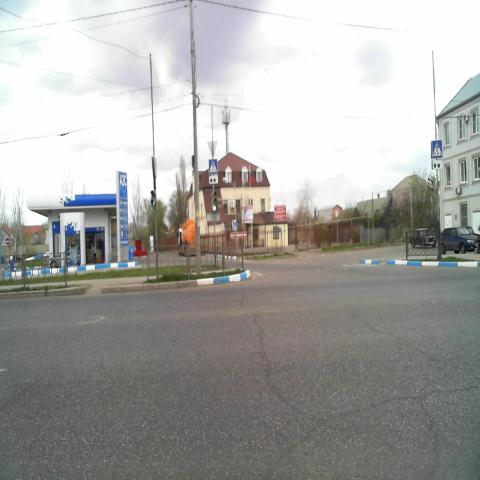8_15: (432, 160, 442, 170)
